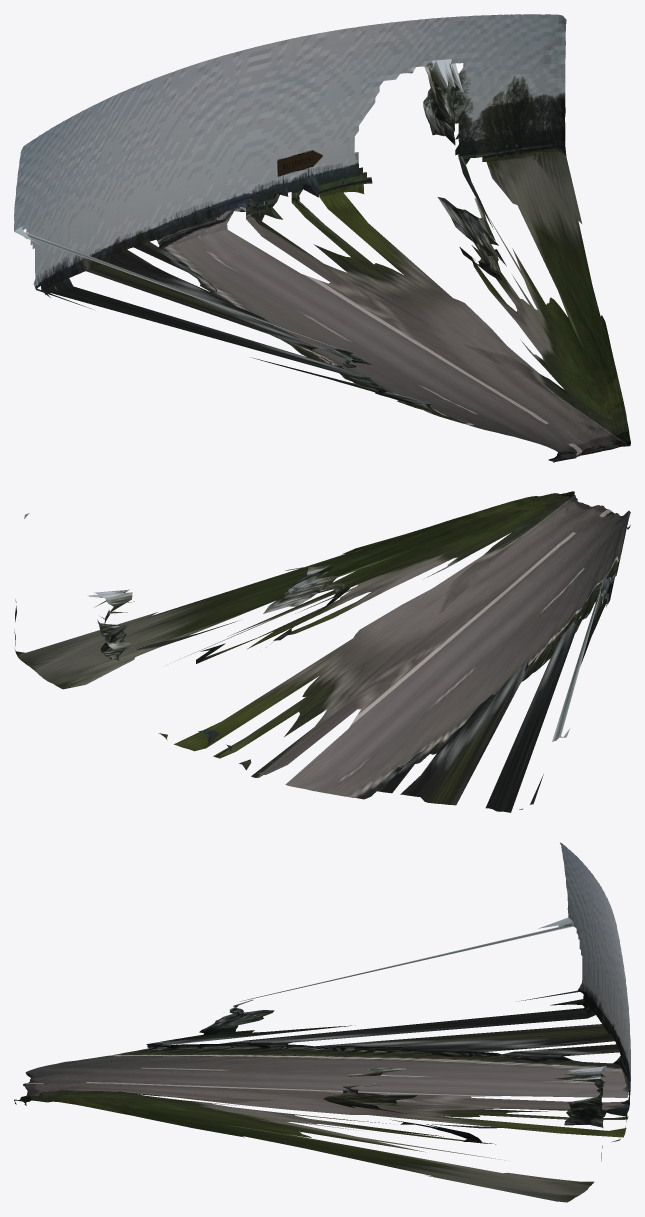
The picture shows the model from 3 angles, top to bottom: view 1: azimuth 30°, elevation 25°; view 2: azimuth 150°, elevation 25°; view 3: azimuth 270°, elevation 25°; orthographic projection. The views are drawn at different scales.
Visible parts, largest first — view 1: defaultobject; view 2: defaultobject; view 3: defaultobject.
Part boxes in pixels (x1,y1,x2,y2): defaultobject: (14,14,630,462); defaultobject: (14,491,630,812); defaultobject: (14,842,630,1202).
Bounding box in the file's own units: 41.06 × 12.95 × 44.81.
Materials: 1 (1 with a texture image).
